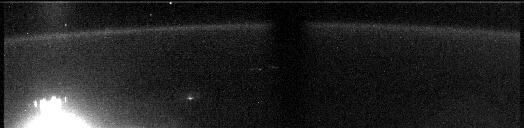positive: (32, 93, 67, 117)
